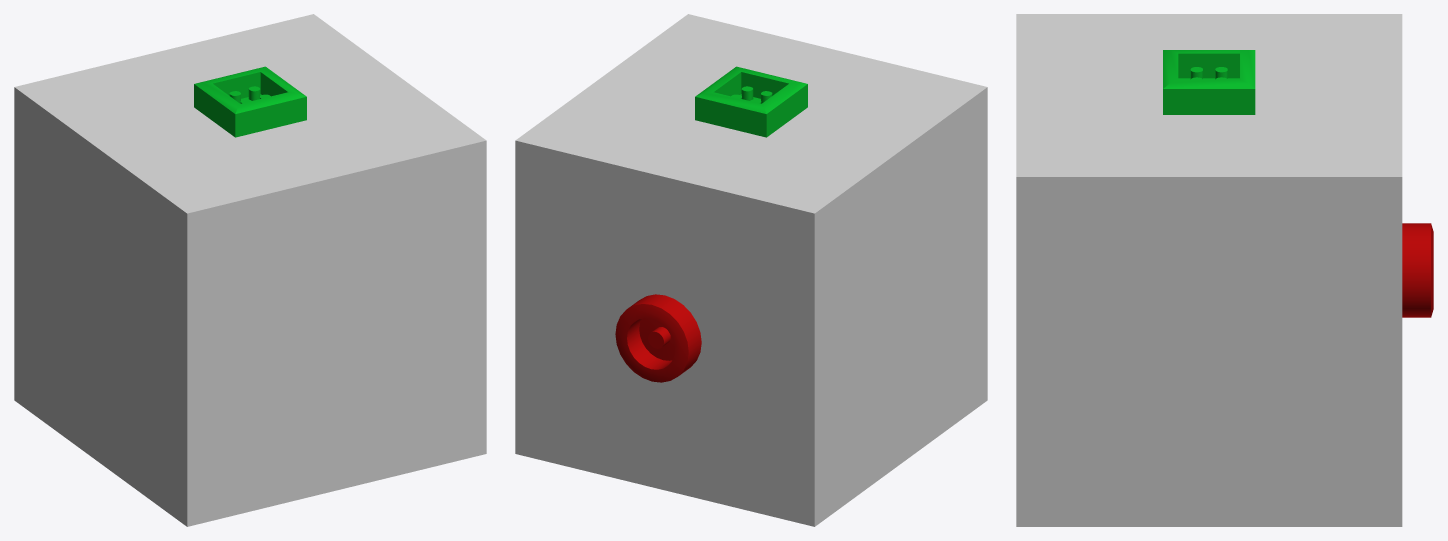
The model's file is InfiniteLV.gltf.
3 views of the same model, side by side, from view 1: azimuth 30°, elevation 25°; view 2: azimuth 150°, elevation 25°; view 3: azimuth 270°, elevation 25° (orthographic). The views are drawn at different scales.
Visible parts, largest first — view 1: Cube; view 2: Cube; view 3: Cube.
Part boxes in pixels (bbox=[...]): Cube: bbox=[14, 14, 486, 526]; Cube: bbox=[515, 14, 987, 526]; Cube: bbox=[1016, 14, 1433, 526].
Bounding box in the file's own units: 0.25 × 0.2706 × 0.2704.
